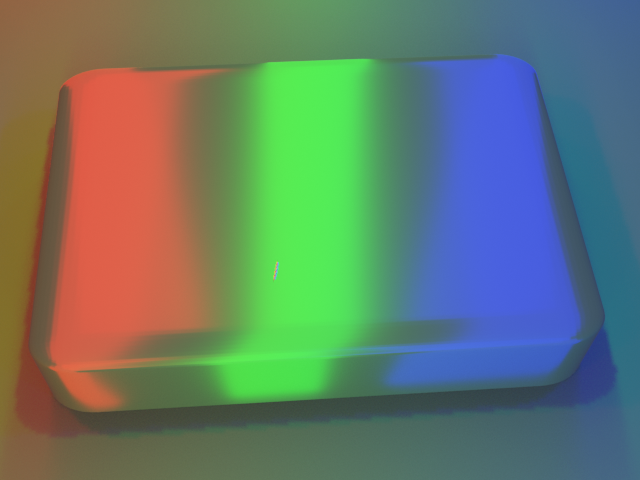scratch: (225, 248, 313, 302)
